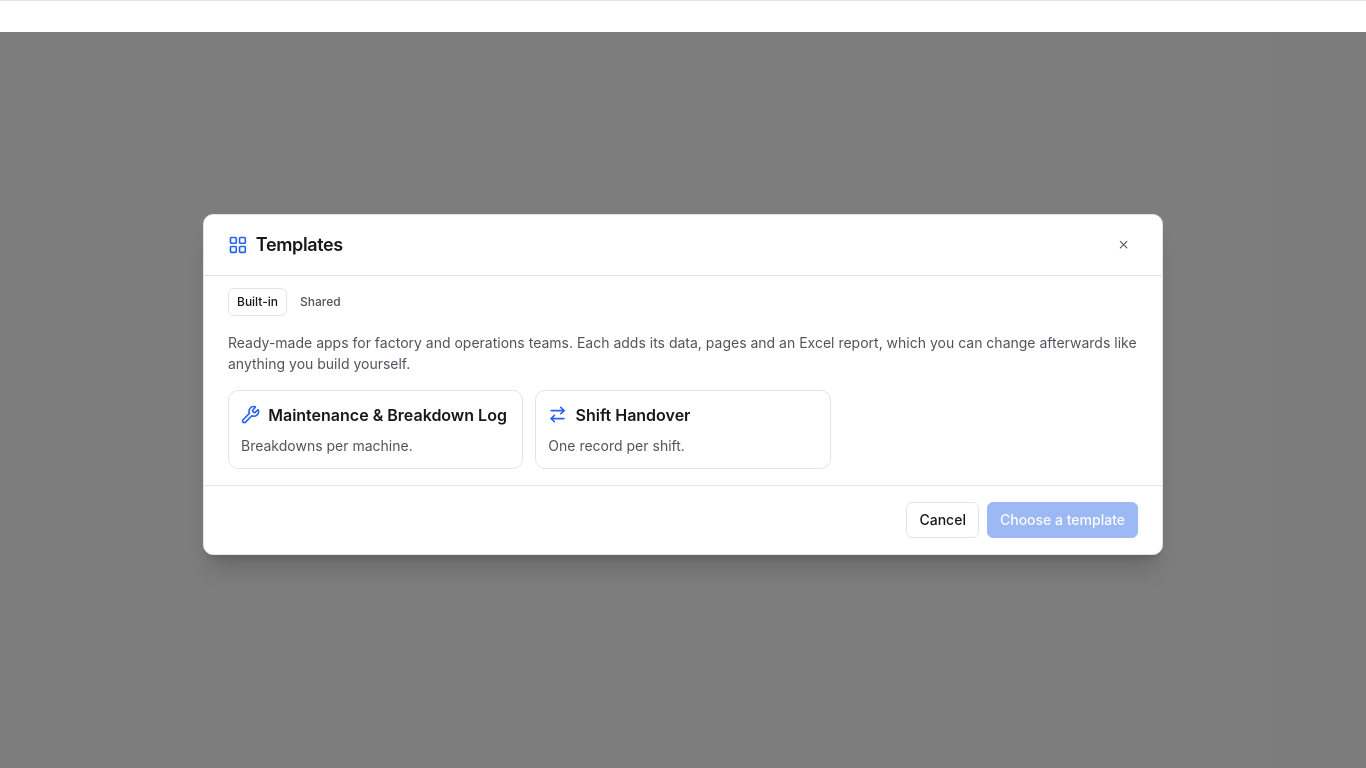
Test case: Template gallery › shows why a template could not be installed
The image size is (1366, 768).
Click the radio button labelled "Shift Handover One record per shift." at (633, 414), box [535,390,831,468]
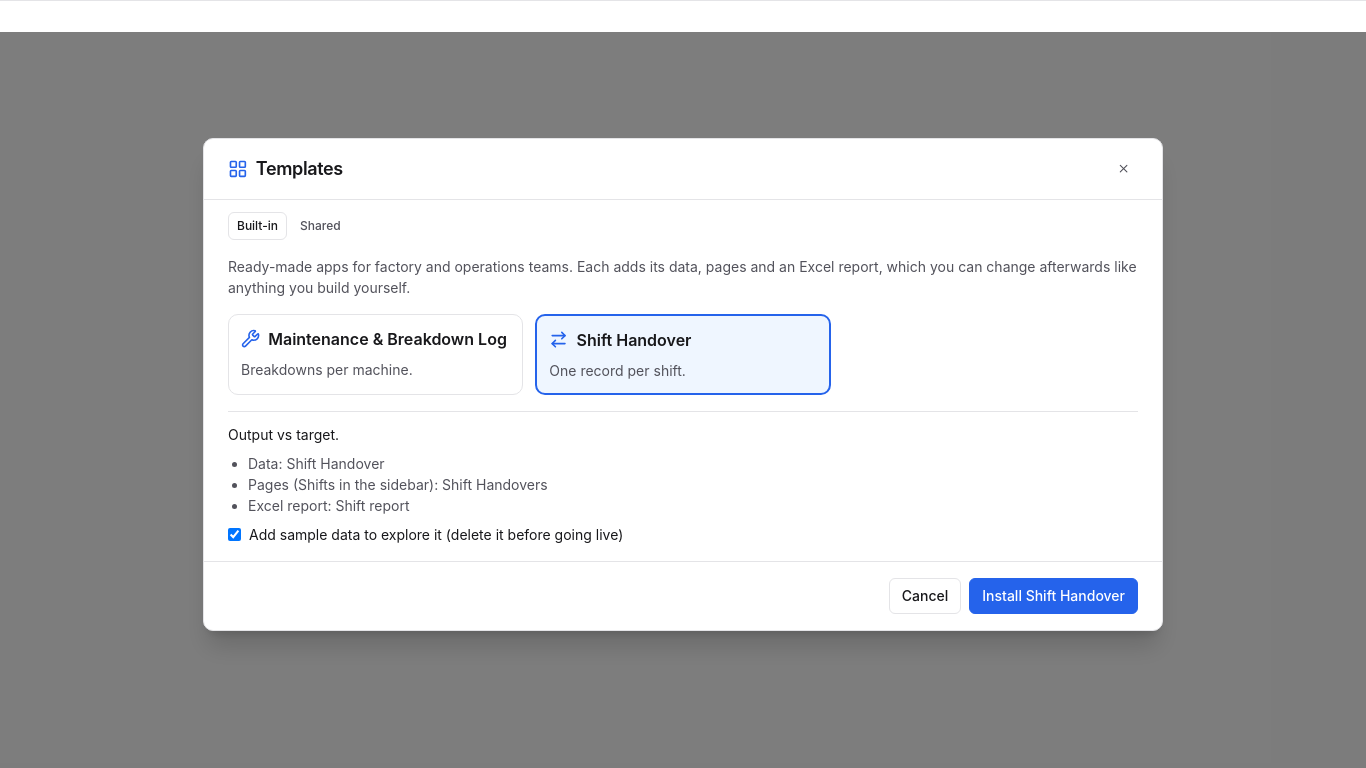
Click the button "Install Shift Handover" at (1054, 596), box [969,578,1138,614]
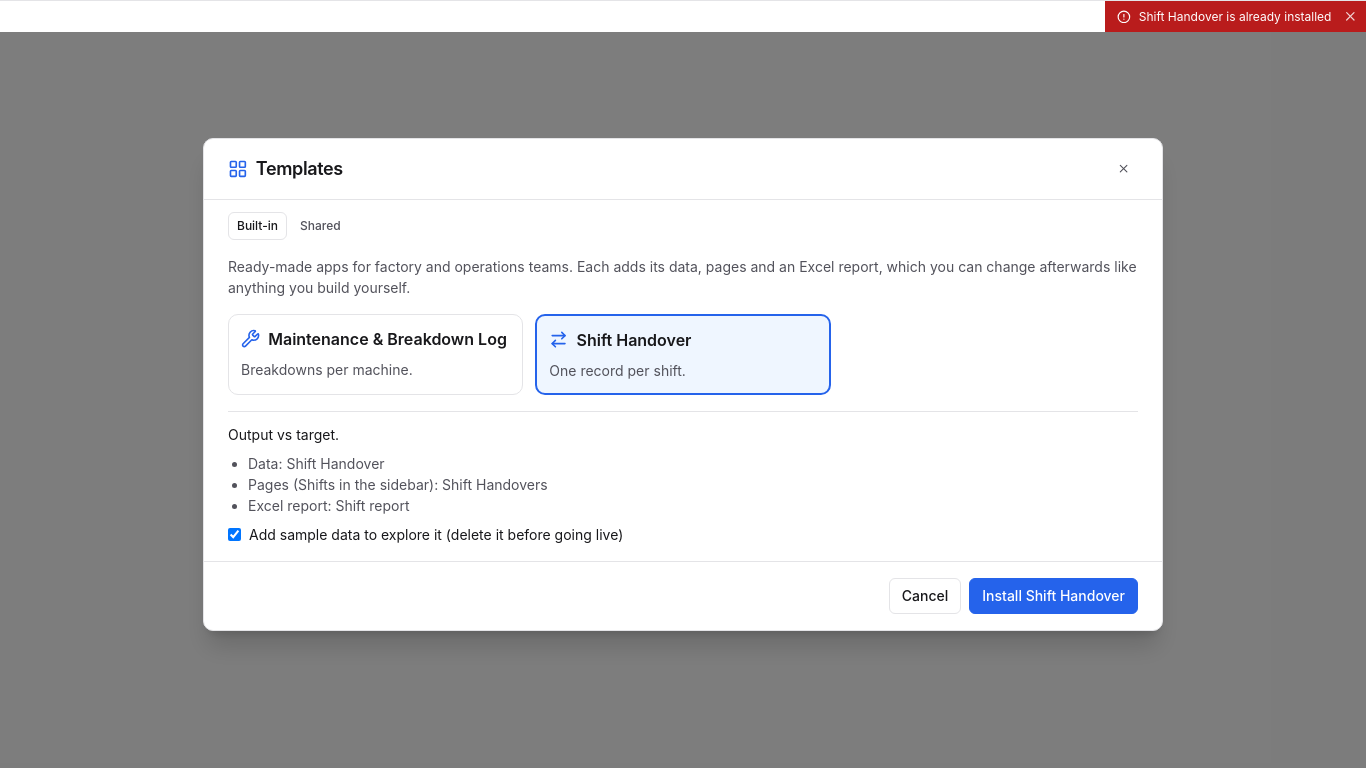
Expected: the element with test id "app-status-notification" shows "already installed", [1139,8,1332,24]
